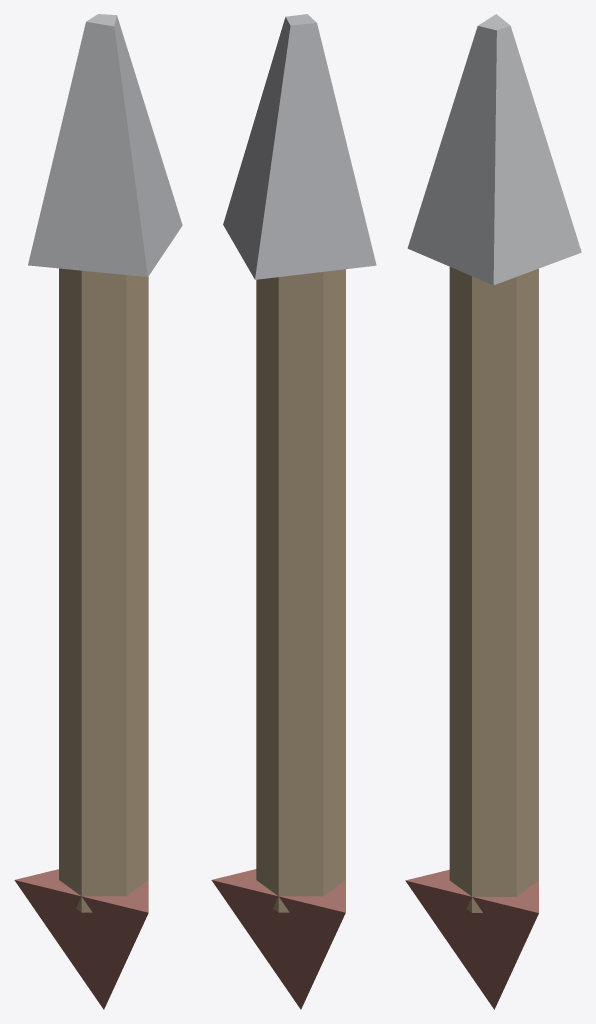
The model's file is javelin.glb.
3 renders of one model, left to right at view 1: azimuth 30°, elevation 25°; view 2: azimuth 150°, elevation 25°; view 3: azimuth 270°, elevation 25°, orthographic.
Visible parts, largest first — view 1: javelin; view 2: javelin; view 3: javelin.
Boxes of the visible parts, bbox=[...] form: javelin: bbox=[14, 14, 182, 1009]; javelin: bbox=[211, 14, 376, 1009]; javelin: bbox=[405, 14, 581, 1009].
Size of the model in its own units: 0.0993 by 0.6102 by 0.0989.
